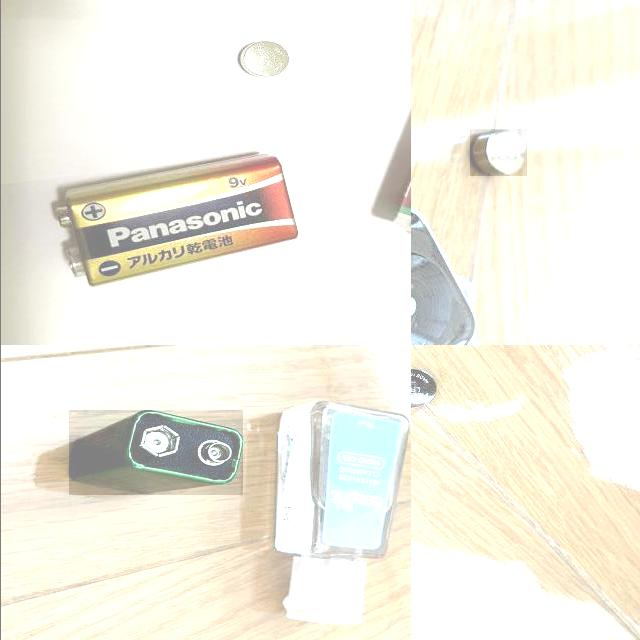9V: (54, 152, 300, 285), (68, 410, 242, 495)
